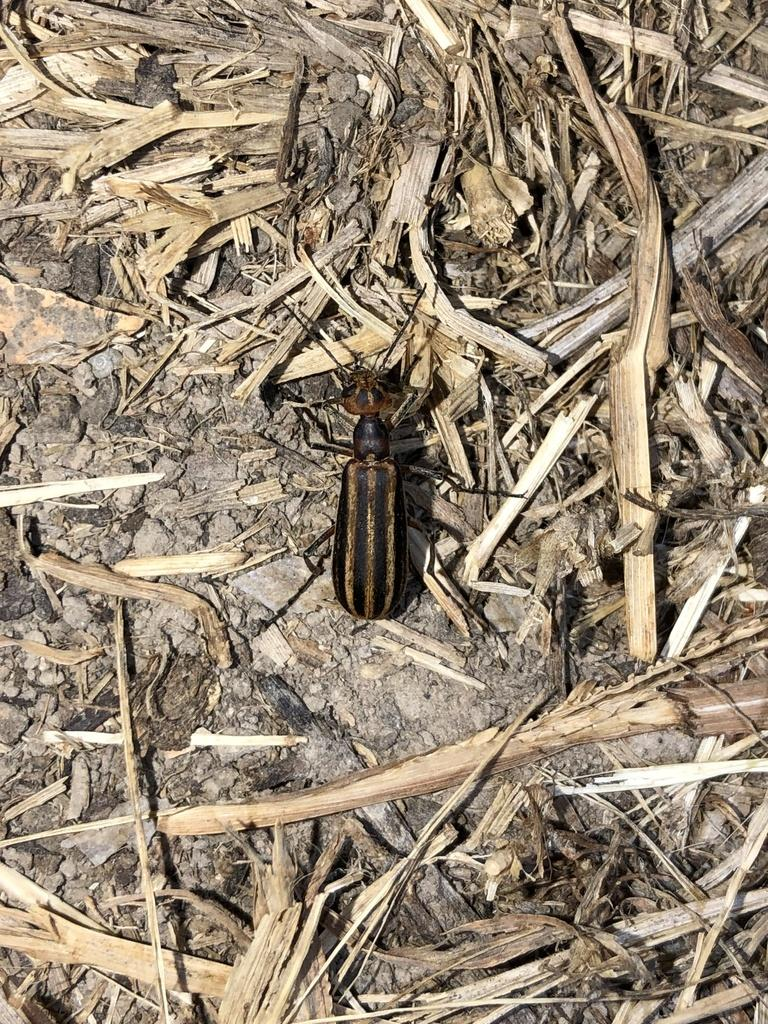blister_beetle: (196, 245, 573, 668)
